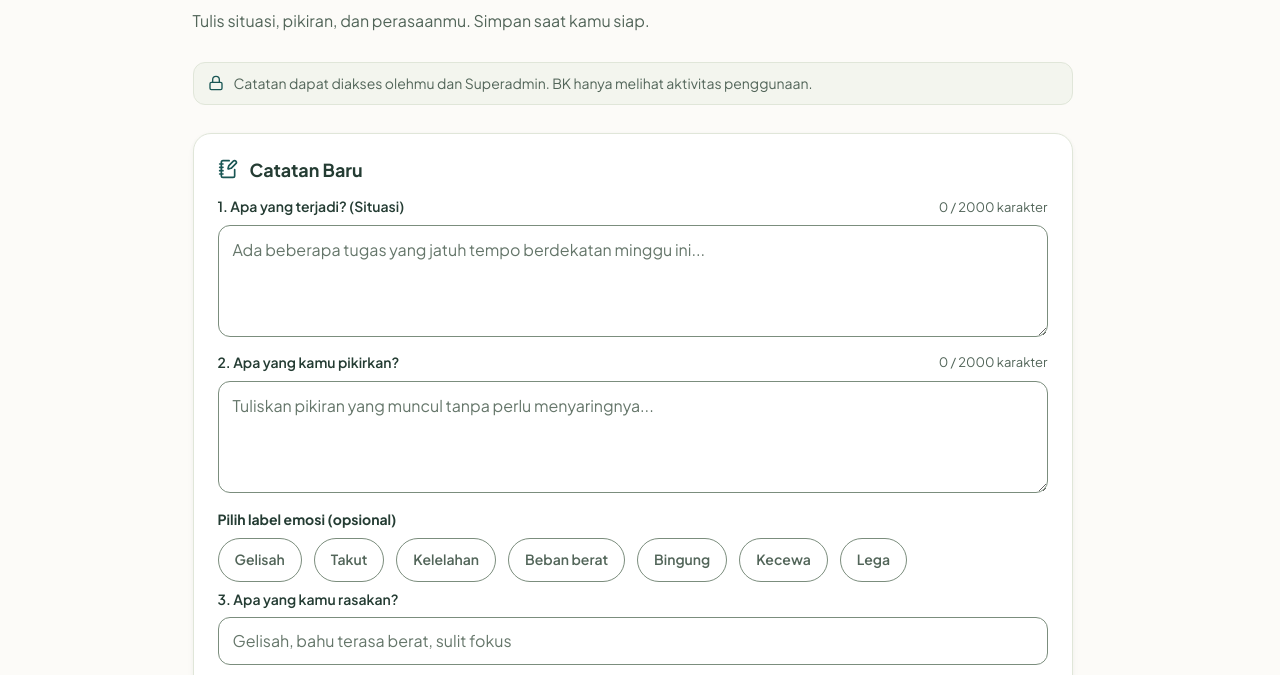
it: Frontend Komponen & Aturan Privasi PRD › D04 Catat: mempertahankan input saat gagal simpan dan tidak menulis draf ke localStorage
The width and height of the screenshot is (1280, 675).
Expected: the text "Catatan dapat diakses olehmu dan Superadmin" is shown, [234, 74, 812, 92]
Type "Tugas menumpuk jelang ujian" into the text box labelled "1. Apa yang terjadi? (Situasi)".
click(632, 281); type("Tugas menumpuk jelang ujian")  # box [218, 225, 1048, 337]
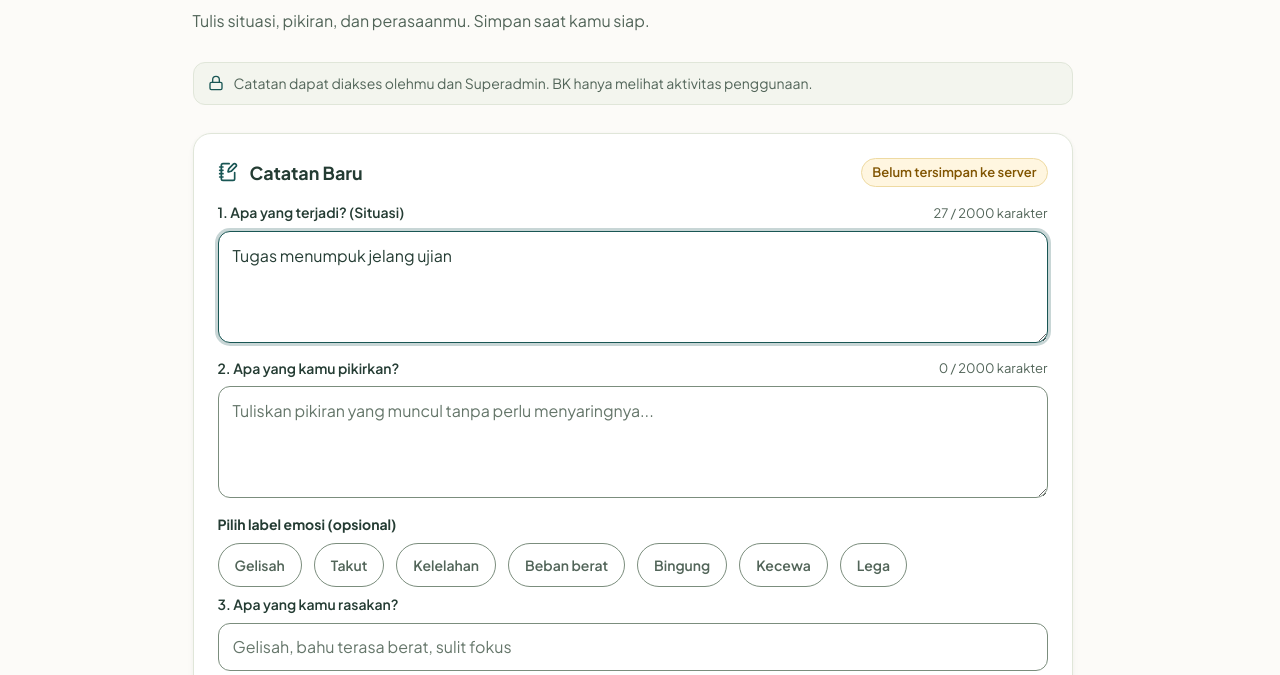
Type "Takut tidak sempat selesai" into the text box labelled "2. Apa yang kamu pikirkan?".
click(632, 442); type("Takut tidak sempat selesai")  # box [218, 386, 1048, 498]
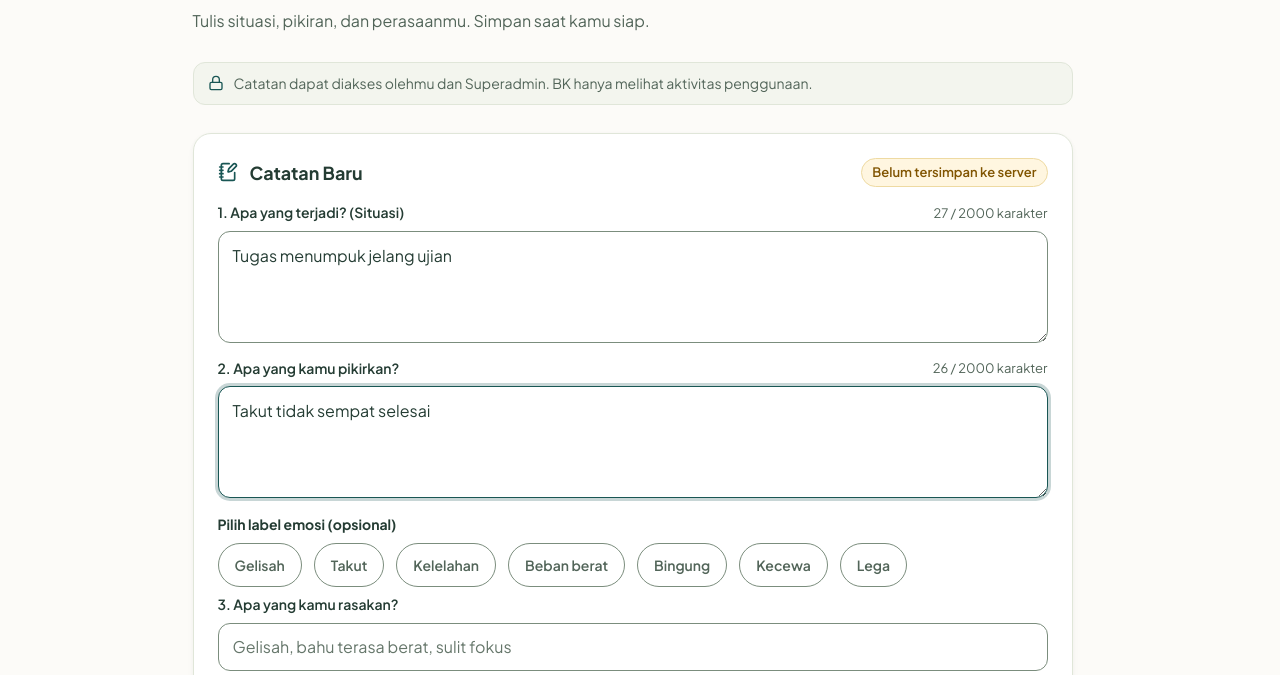
Type "Gelisah" into the field labelled "3. Apa yang kamu rasakan?".
click(632, 647); type("Gelisah")  # box [218, 623, 1048, 671]
(page scrolled)
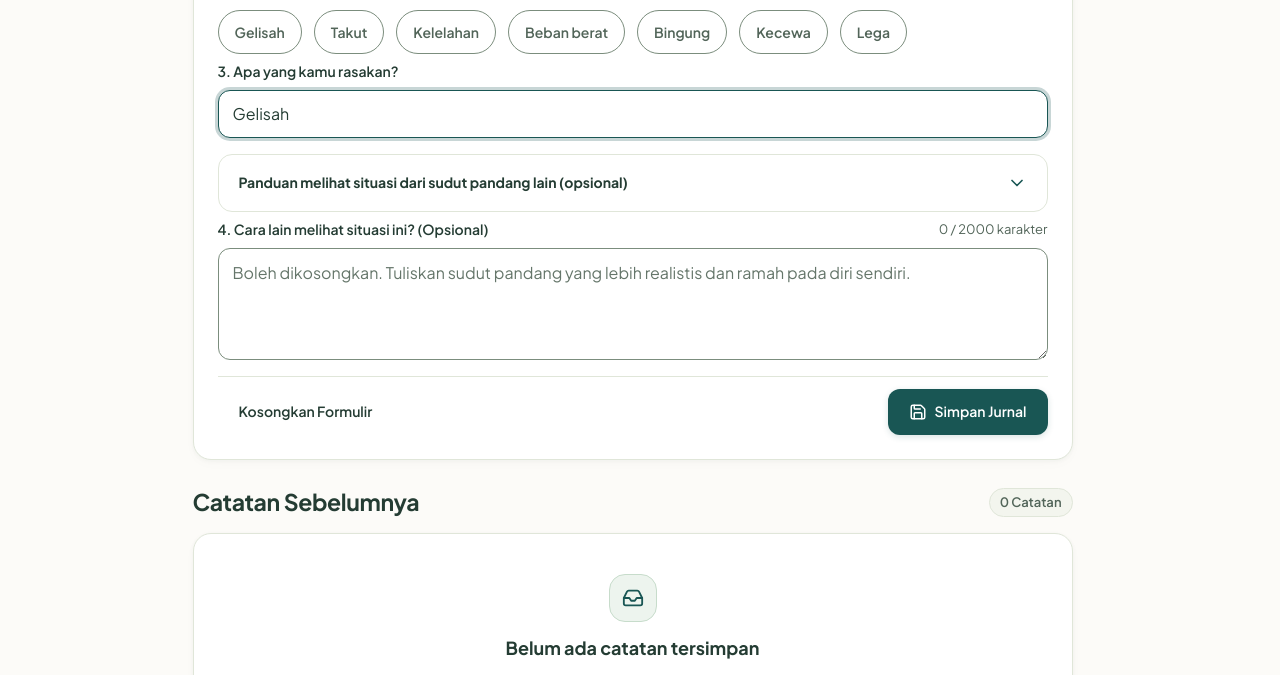
Click the button "Simpan Jurnal".
click(968, 412)  # box [888, 389, 1048, 435]
(page scrolled)
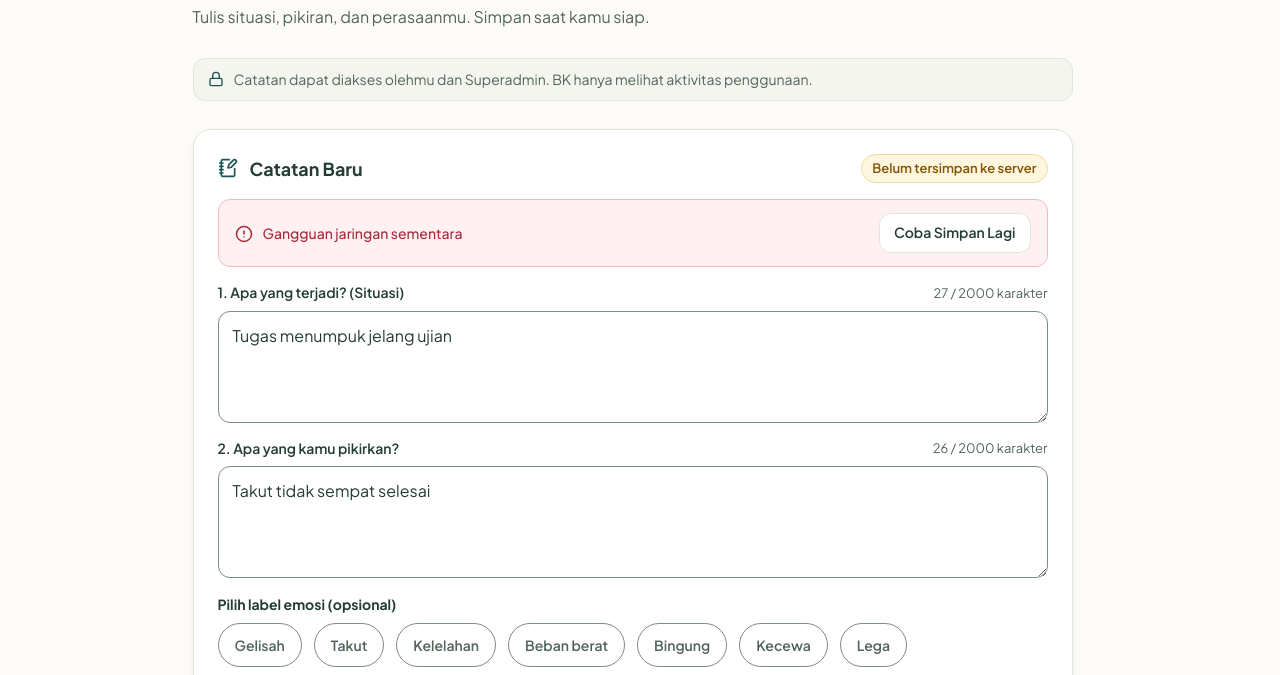
Expected: the text "Gangguan jaringan sementara" is shown, [262, 223, 462, 244]
